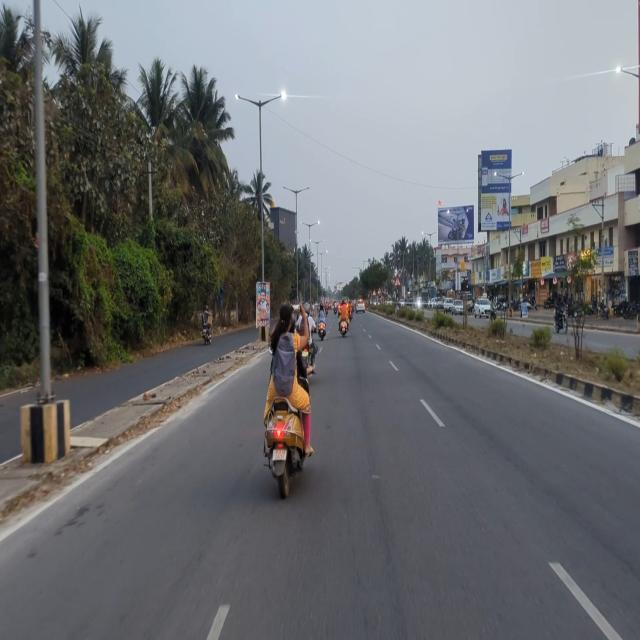bien_cam: (393, 274, 401, 288), (377, 285, 382, 296), (372, 288, 376, 297)
